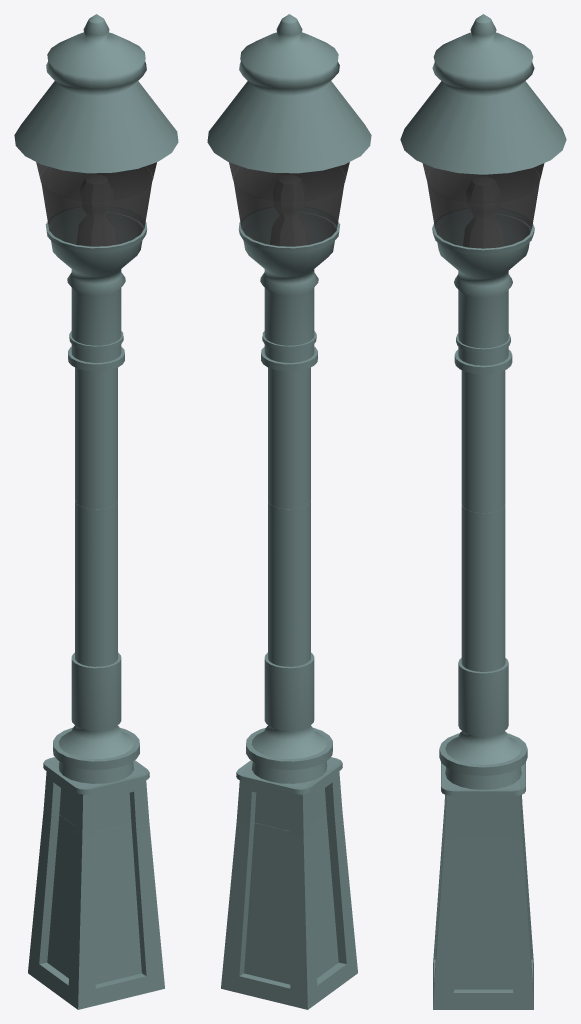
Rendered from Streetlight_B.fbx.
3 renders of one model, left to right at view 1: azimuth 30°, elevation 25°; view 2: azimuth 150°, elevation 25°; view 3: azimuth 270°, elevation 25°, orthographic.
Visible parts, largest first — view 1: b1, b6, b5, b2, b4, b3, pCube1; view 2: b1, b6, b5, b2, b4, b3, pCube1; view 3: b6, b1, b5, b2, b4, b3, pCube1.
Part boxes in pixels (left/top/right/bottom): b1: left=28, top=811, right=164, bottom=1009; b6: left=14, top=14, right=178, bottom=201; b5: left=41, top=167, right=152, bottom=350; b2: left=43, top=652, right=149, bottom=838; b4: left=68, top=344, right=124, bottom=509; b3: left=75, top=500, right=117, bottom=666; pCube1: left=77, top=175, right=115, bottom=245; b1: left=221, top=811, right=357, bottom=1009; b6: left=207, top=14, right=371, bottom=201; b5: left=233, top=167, right=344, bottom=350; b2: left=236, top=652, right=342, bottom=838; b4: left=261, top=344, right=317, bottom=509; b3: left=268, top=500, right=310, bottom=666; pCube1: left=270, top=175, right=308, bottom=245; b6: left=400, top=14, right=566, bottom=203; b1: left=433, top=810, right=533, bottom=1009; b5: left=427, top=168, right=539, bottom=353; b2: left=439, top=658, right=527, bottom=839; b4: left=454, top=346, right=512, bottom=512; b3: left=461, top=504, right=505, bottom=671; pCube1: left=463, top=176, right=503, bottom=247.
Size of the model in its own units: 90.88 by 588 by 90.88.
